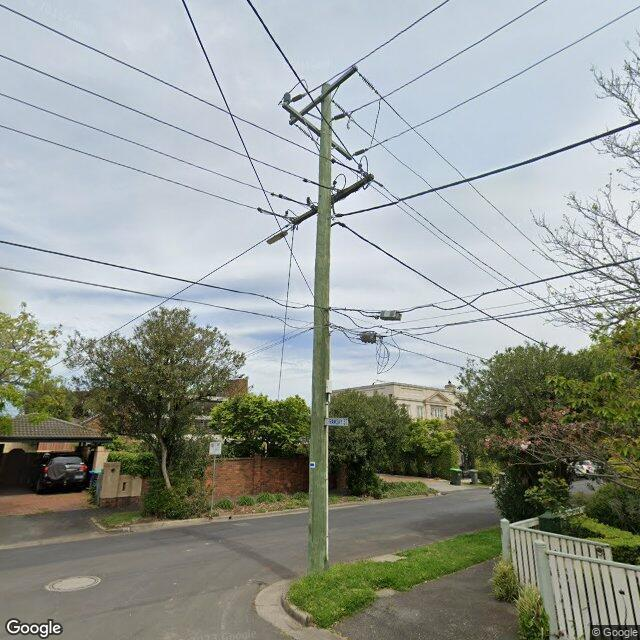HV-transmission: (283, 92, 365, 157)
crossarm: (292, 173, 374, 224), (282, 102, 353, 160), (289, 65, 357, 125)
streetlight: (266, 225, 293, 245)
timber-pole: (307, 83, 330, 575)
